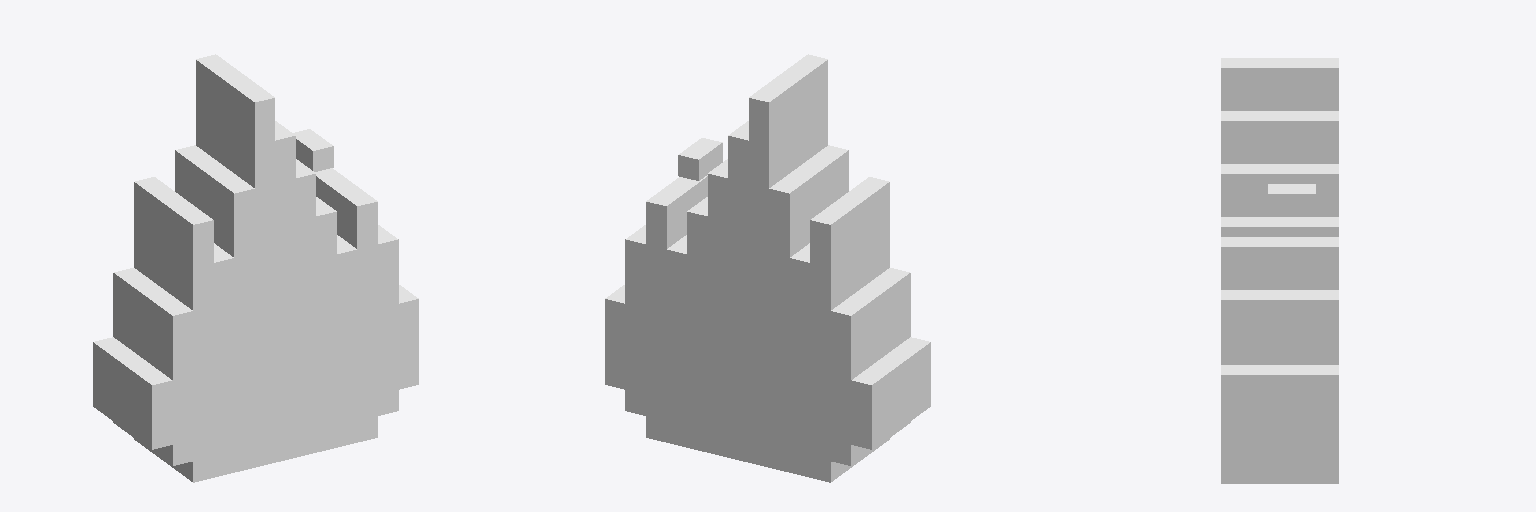
Rendered from fire-01.obj.
The picture shows the model from 3 angles: view 1: azimuth 30°, elevation 25°; view 2: azimuth 150°, elevation 25°; view 3: azimuth 270°, elevation 25°; orthographic projection.
Bounding box in the file's own units: 13 × 17 × 5.